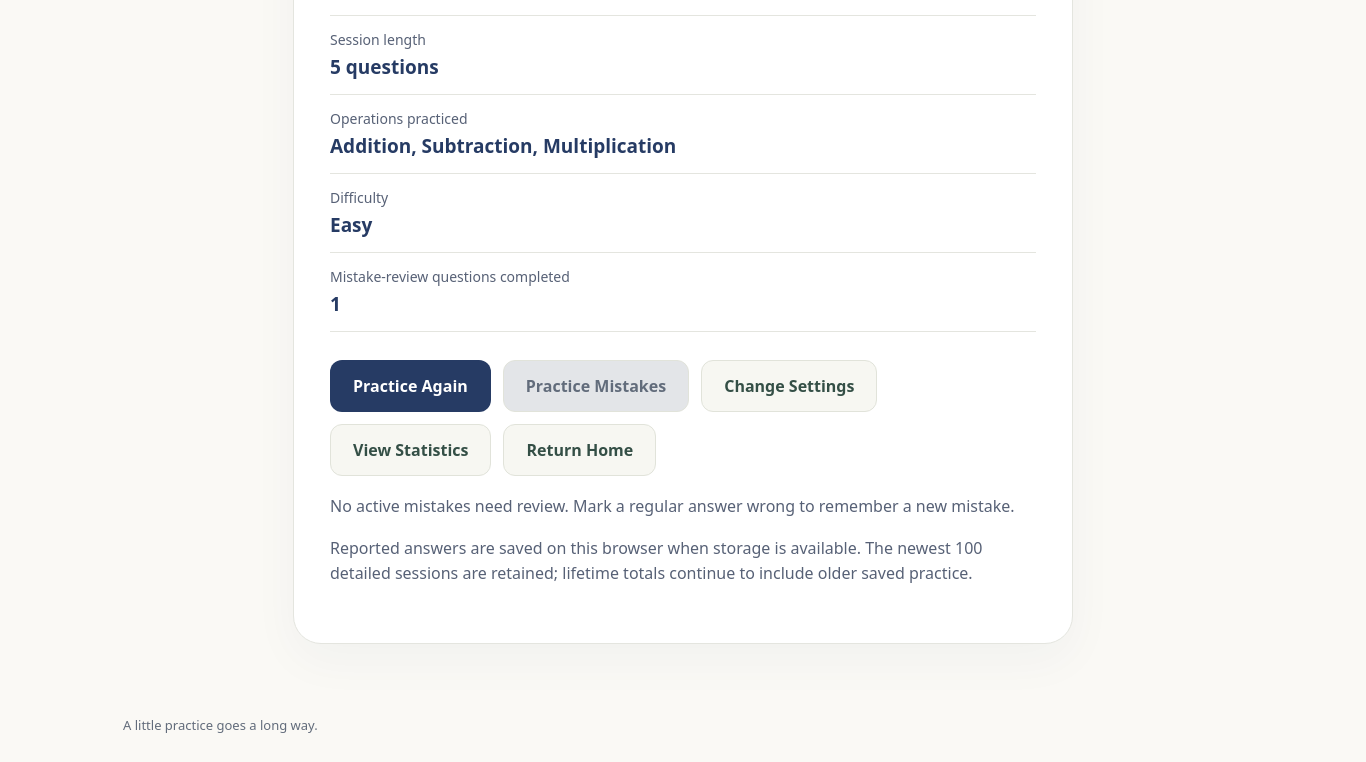
session summary page › restores configuration when changing settings
(page scrolled)
What coordinates should you click on to do the following:
click the link "Change Settings"
I would click on:
 (789, 386)
Its box is [701,360,878,412].
(page scrolled)
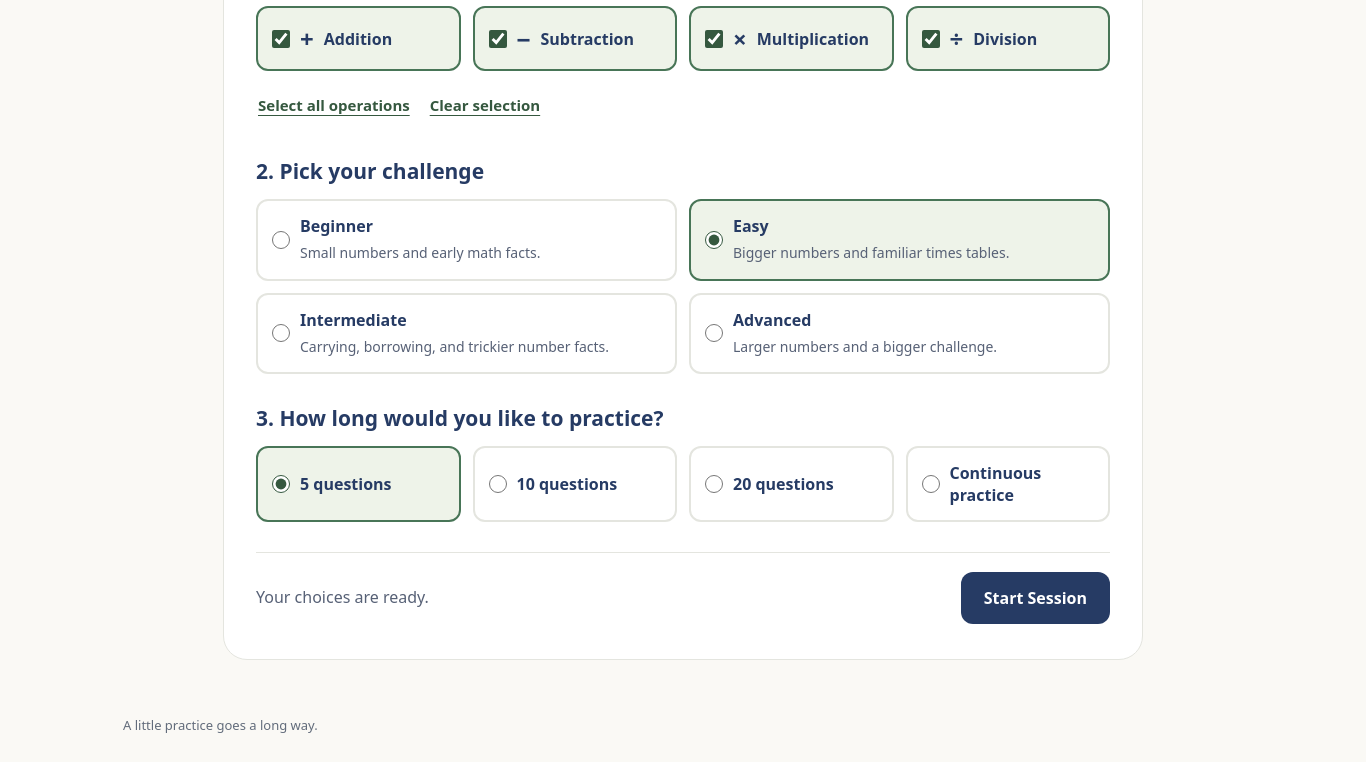
Expected: the checkbox labelled "+ Addition" is checked, [272,30,290,48]
Expected: the checkbox labelled "− Subtraction" is checked, [488,30,506,48]
Expected: the checkbox labelled "× Multiplication" is checked, [705,30,723,48]
